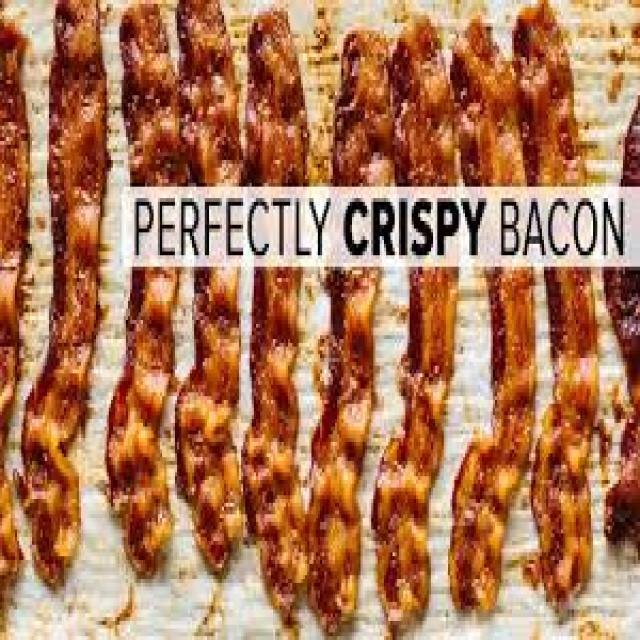Bacon: (18, 0, 106, 586), (371, 268, 457, 631), (452, 268, 532, 610), (308, 268, 379, 632), (531, 268, 599, 608), (244, 268, 308, 624), (108, 268, 179, 575), (175, 268, 244, 570), (1, 20, 29, 584), (512, 0, 584, 184), (451, 20, 525, 182), (180, 0, 242, 184), (334, 31, 390, 184), (396, 22, 450, 175), (121, 9, 170, 175), (248, 15, 305, 119), (538, 38, 579, 177), (260, 132, 304, 179)
